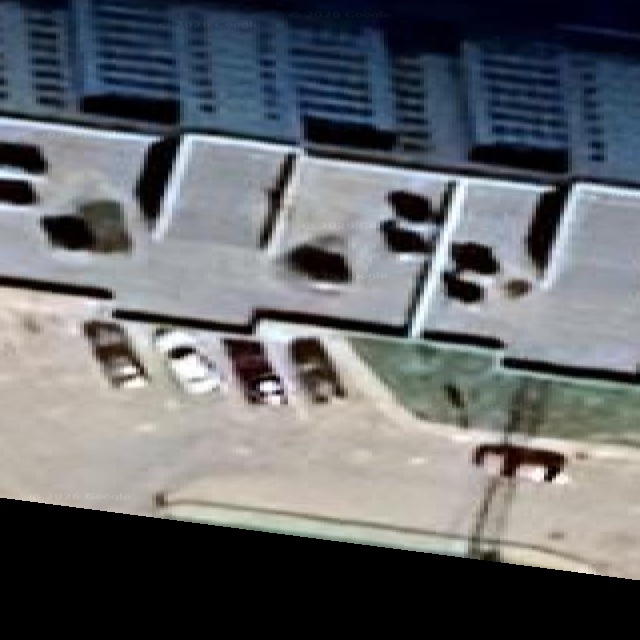car: (40, 200, 131, 252), (152, 327, 220, 392), (84, 320, 148, 387), (223, 337, 286, 403), (472, 443, 567, 483), (289, 337, 344, 402), (287, 236, 352, 291), (75, 200, 131, 252), (379, 219, 433, 259), (40, 213, 94, 249), (387, 190, 443, 224), (451, 241, 500, 275), (0, 140, 47, 175), (444, 271, 484, 303), (247, 373, 286, 404), (0, 176, 35, 203)
